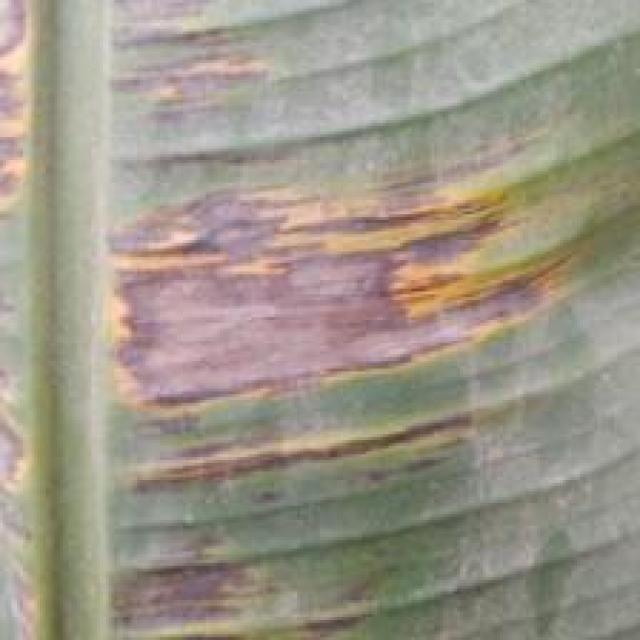Early_leaf_spot: (82, 163, 606, 407), (82, 389, 529, 504), (67, 527, 438, 640), (99, 0, 262, 145), (0, 389, 60, 637), (0, 0, 54, 237)
